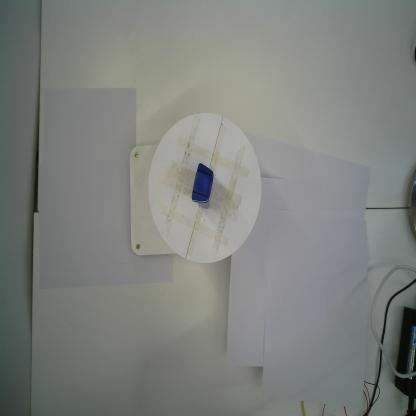Personal Hygiene: (191, 162, 214, 204)
